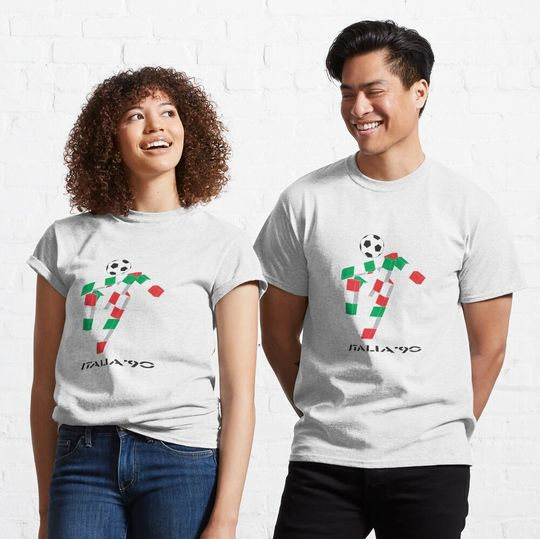design: (338, 232, 427, 355), (78, 256, 166, 372)
